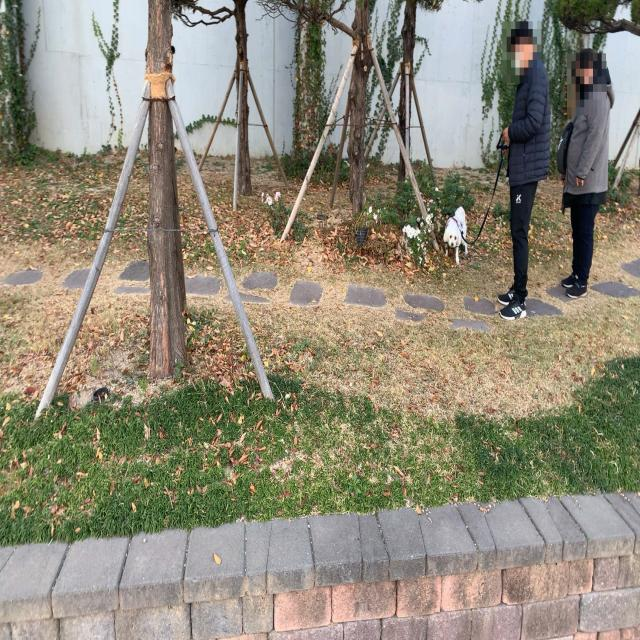Leashed_Dog: (443, 126, 528, 266)
